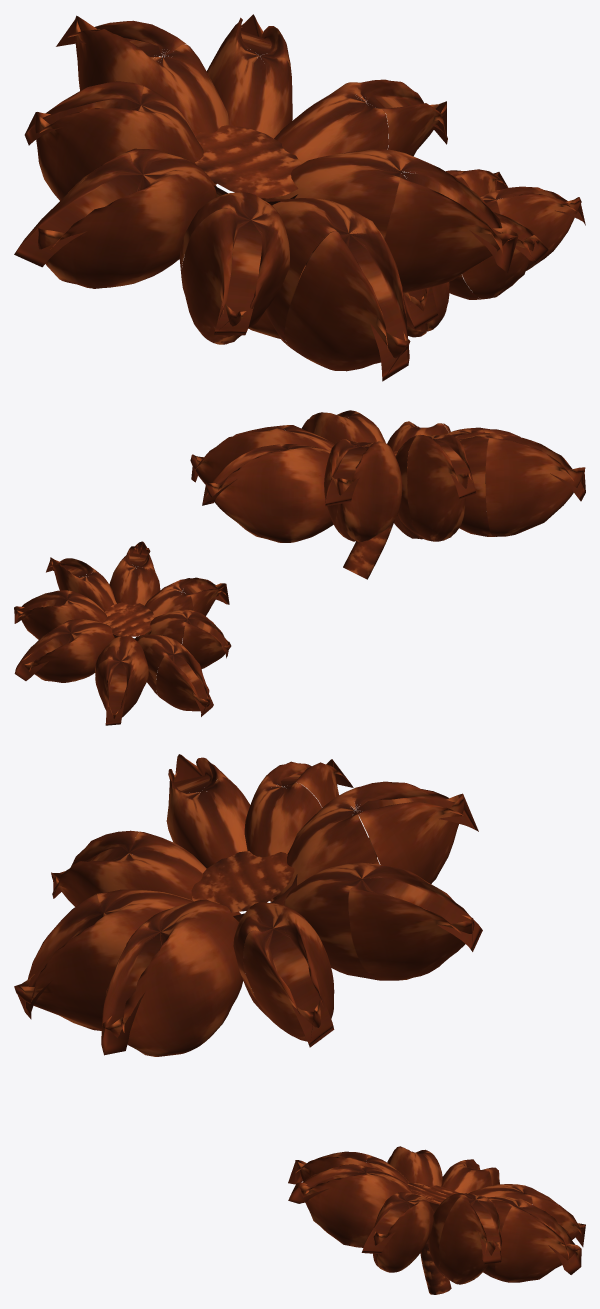
The model's file is star-anise.glb.
3 renders of one model, top to bottom at view 1: azimuth 30°, elevation 25°; view 2: azimuth 150°, elevation 25°; view 3: azimuth 270°, elevation 25°, orthographic. The views are drawn at different scales.
Parts seen in each view (by area): view 1: star-anise-carpels; view 2: star-anise-carpels; view 3: star-anise-carpels.
Part boxes in pixels (x1,y1,x2,y2): star-anise-carpels: (14,14,585,381); star-anise-carpels: (14,410,585,725); star-anise-carpels: (14,754,585,1294).
Size of the model in its own units: 0.0543 by 0.0313 by 0.0444.
Materials: 2 (2 with a texture image).
